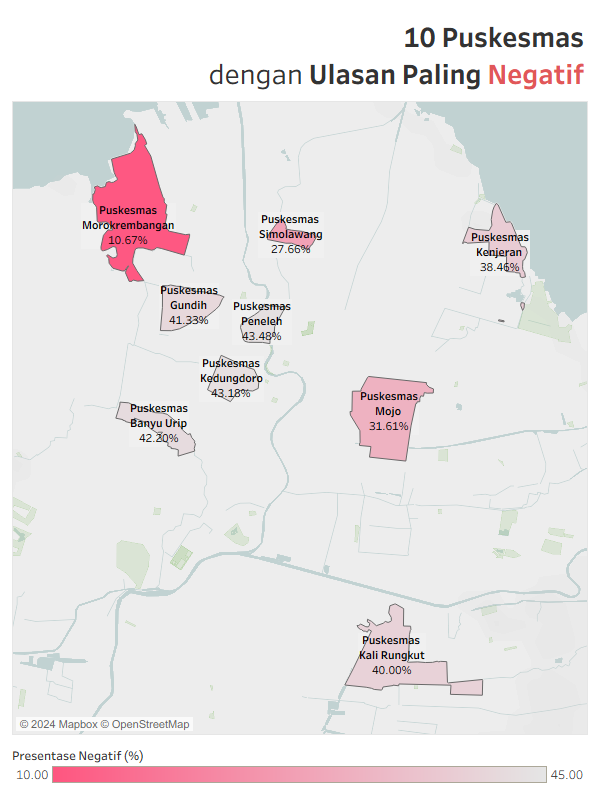

The dashboard page shown, as its layout file describes it:
{"tool":"tableau","page":{"name":"Negative Dashboard","canvas":[600,800],"ordinal":0},"visuals":[{"type":"worksheet","title":"Top 10 Negative","mark":"Multipolygon","box":[8,8,584,731]},{"type":"legend","title":"Top 10 Negative","param":"[federated.09djcg00jpvf8a11wlj1g0byvxj0].[none:positive_percentage:qk]","box":[8,739,584,53]}]}

Visuals, with their boxes in screenshot pixels (x1, y1, x2, y2), scaled from the page's 600x800 canvas onto the 600x800 screenshot:
"Top 10 Negative" worksheet (Multipolygon marks): bbox(8, 8, 592, 739)
"Top 10 Negative" legend: bbox(8, 739, 592, 792)
